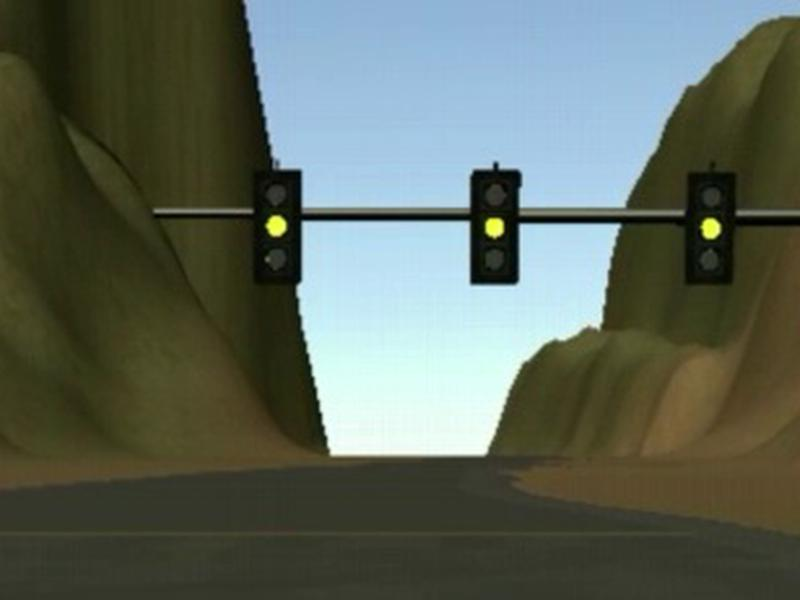Yellow: (469, 167, 522, 286), (252, 168, 303, 284), (685, 172, 736, 286)
